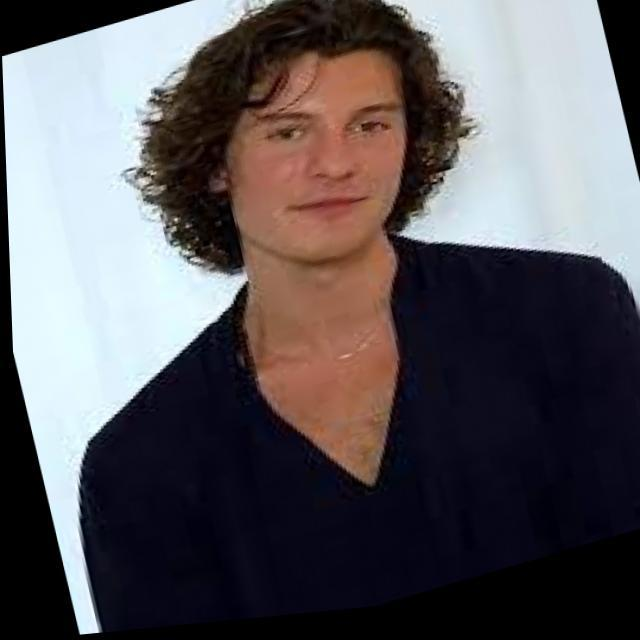Nonhelmet: (191, 7, 467, 262)
